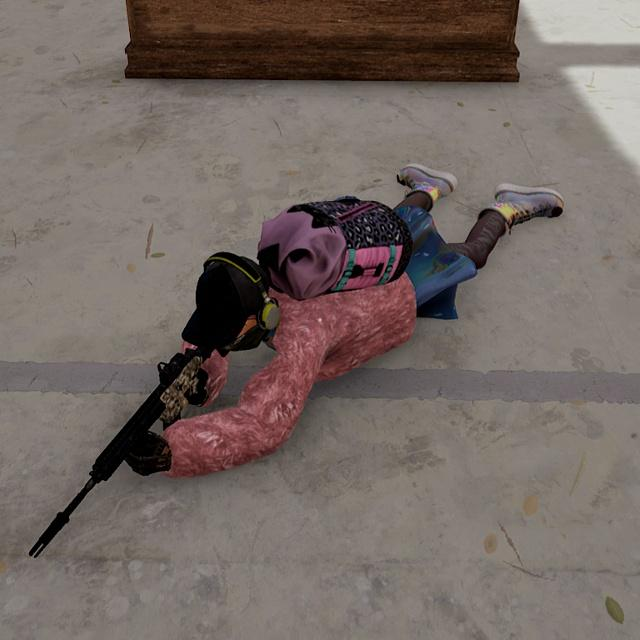head: (183, 247, 279, 357)
people: (109, 156, 568, 479)
